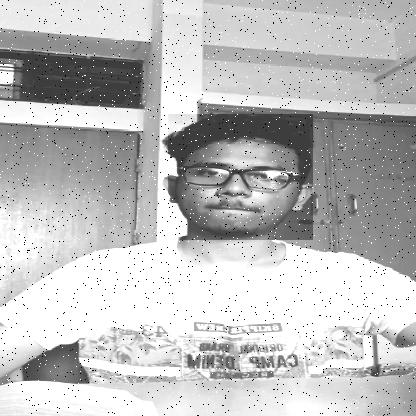Normal: (168, 114, 313, 240)
